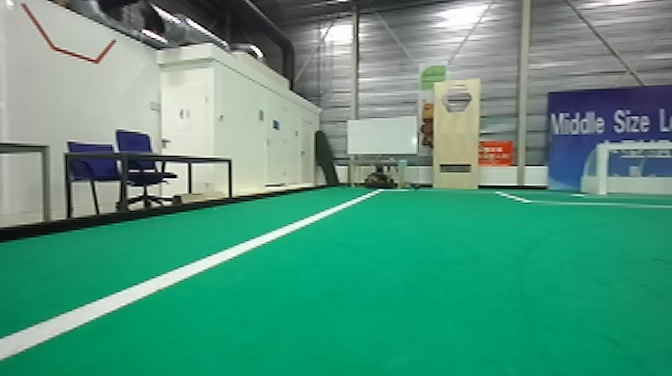goalpost: (595, 135, 608, 196)
